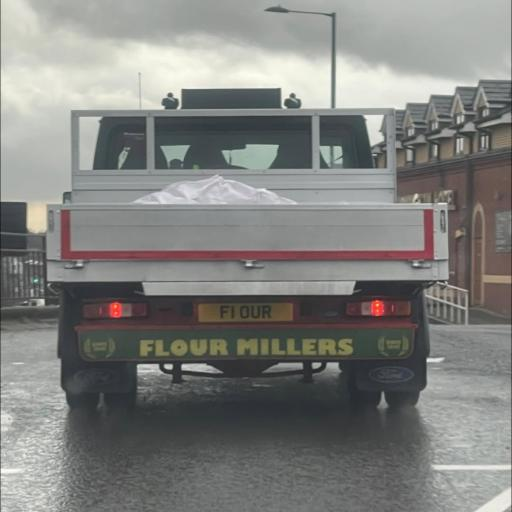numberplates: (199, 303, 293, 322)
